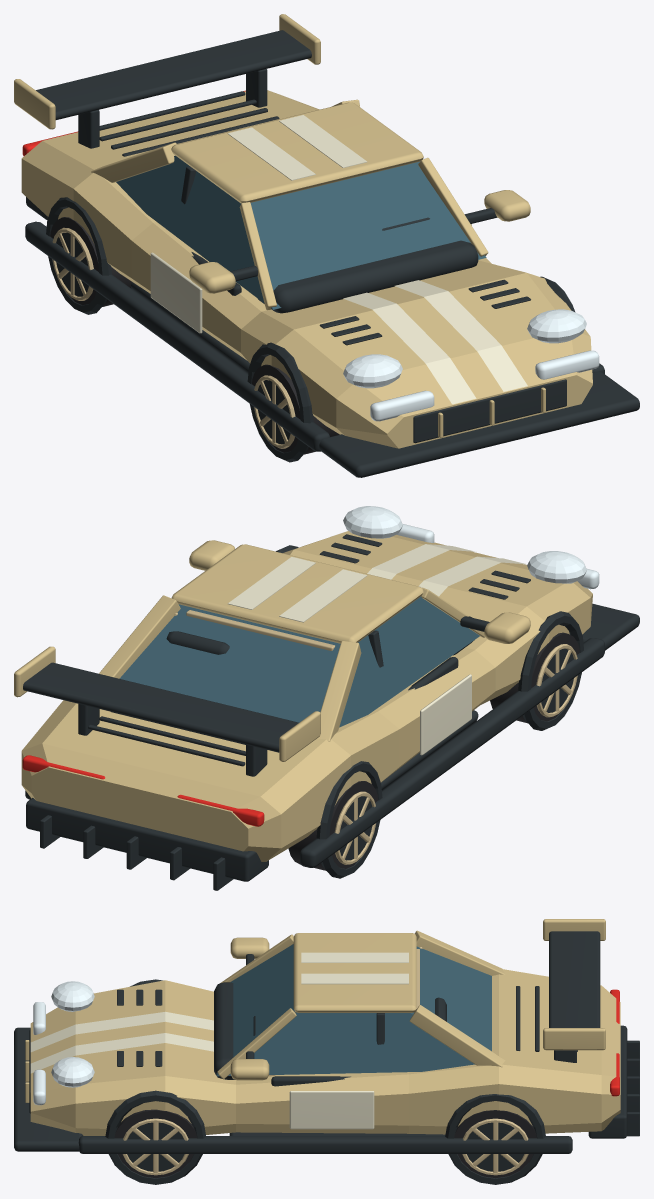
Rendered from VEH_R6_Heritage_GT.glb.
3 views of the same model, one above another, from view 1: azimuth 30°, elevation 25°; view 2: azimuth 150°, elevation 25°; view 3: azimuth 270°, elevation 25° (orthographic). The views are drawn at different scales.
Visible parts, largest first — view 1: GT_sculpted_body, Glasshouse, Roof, Rear_wing, Front_splitter, Side_skirt, Dashboard, Front_intake, Door_number_panel, Wheelarch, Wheelarch.001, Hood_stripe.001 (+28 smaller); view 2: GT_sculpted_body, Glasshouse, Roof, Rear_wing, Side_skirt, Rear_diffuser, Door_number_panel, C_pillar, C_pillar.001, Wheelarch, Wheelarch.001, Roof_stripe (+27 smaller); view 3: GT_sculpted_body, Glasshouse, Side_skirt.001, Roof, Rear_wing, Door_number_panel.001, Front_splitter, Wheelarch.002, Wheelarch.003, C_pillar.001, Dashboard, Wing_endplate.001 (+27 smaller).
Part boxes in pixels (left/top/right/bottom): GT_sculpted_body: left=21, top=90, right=592, bottom=448; Glasshouse: left=116, top=155, right=486, bottom=309; Roof: left=171, top=102, right=423, bottom=203; Rear_wing: left=36, top=30, right=311, bottom=119; Front_splitter: left=319, top=372, right=639, bottom=477; Side_skirt: left=25, top=221, right=329, bottom=451; Dashboard: left=258, top=240, right=478, bottom=313; Front_intake: left=413, top=379, right=566, bottom=443; Door_number_panel: left=150, top=252, right=202, bottom=333; Wheelarch: left=247, top=342, right=313, bottom=462; Wheelarch.001: left=46, top=197, right=111, bottom=314; Hood_stripe.001: left=372, top=303, right=449, bottom=363; GT_sculpted_body: left=21, top=531, right=592, bottom=861; Glasshouse: left=119, top=596, right=479, bottom=727; Roof: left=171, top=544, right=423, bottom=643; Rear_wing: left=23, top=662, right=298, bottom=752; Side_skirt: left=300, top=638, right=604, bottom=867; Rear_diffuser: left=26, top=798, right=268, bottom=881; Door_number_panel: left=420, top=674, right=471, bottom=755; C_pillar: left=317, top=641, right=361, bottom=741; C_pillar.001: left=99, top=595, right=180, bottom=678; Wheelarch: left=518, top=611, right=583, bottom=730; Wheelarch.001: left=316, top=761, right=382, bottom=878; Roof_stripe: left=279, top=569, right=367, bottom=622; GT_sculpted_body: left=30, top=969, right=620, bottom=1135; Glasshouse: left=216, top=944, right=491, bottom=1076; Side_skirt.001: left=78, top=1136, right=572, bottom=1153; Roof: left=293, top=933, right=416, bottom=1012; Rear_wing: left=549, top=931, right=600, bottom=1027; Door_number_panel.001: left=289, top=1091, right=374, bottom=1129; Front_splitter: left=14, top=1027, right=83, bottom=1151; Wheelarch.002: left=105, top=1090, right=206, bottom=1184; Wheelarch.003: left=445, top=1094, right=545, bottom=1184; C_pillar.001: left=409, top=1005, right=505, bottom=1067; Dashboard: left=214, top=982, right=235, bottom=1079; Wing_endplate.001: left=543, top=1028, right=605, bottom=1050.
Bounding box in the file's own units: 2.33 × 1.31 × 4.62.
